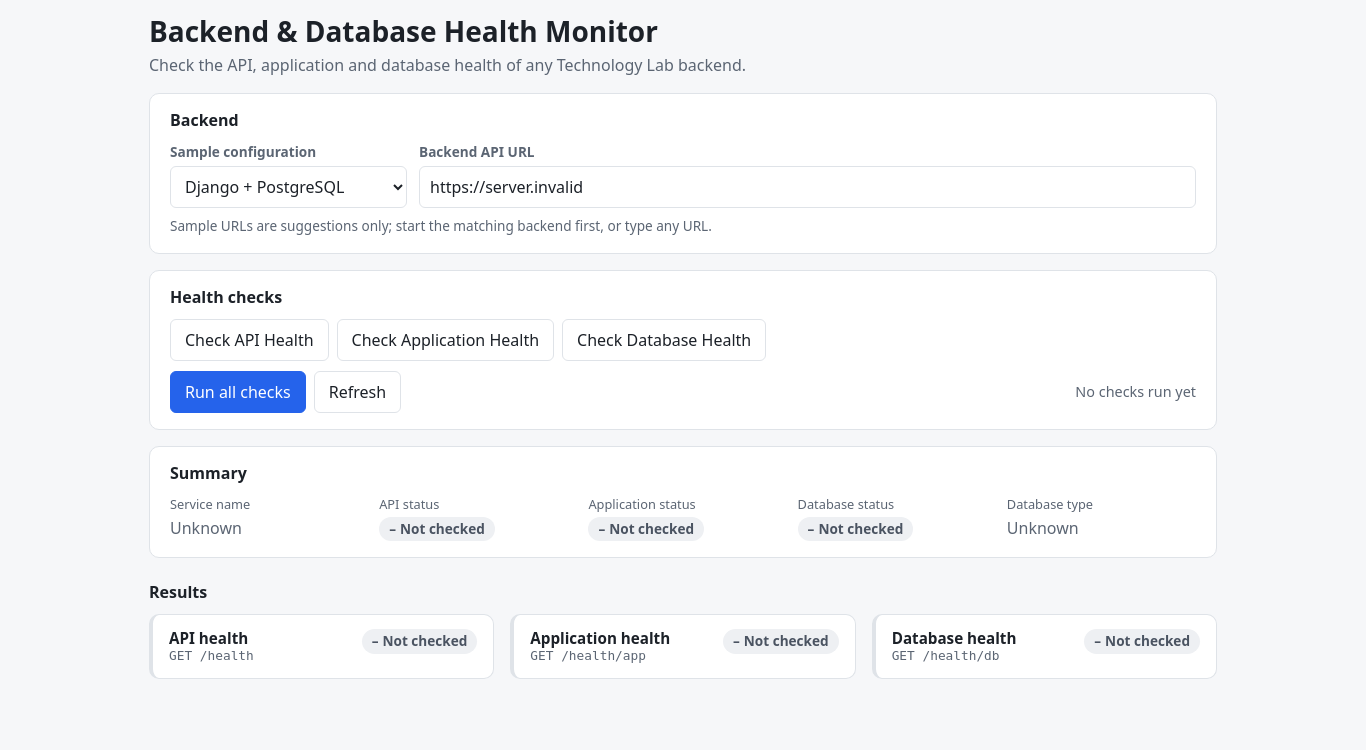
App › runs all checks and shows a healthy summary
Click the button "Run all checks" at {"x": 238, "y": 392}, box [170,371,306,413]
(page scrolled)
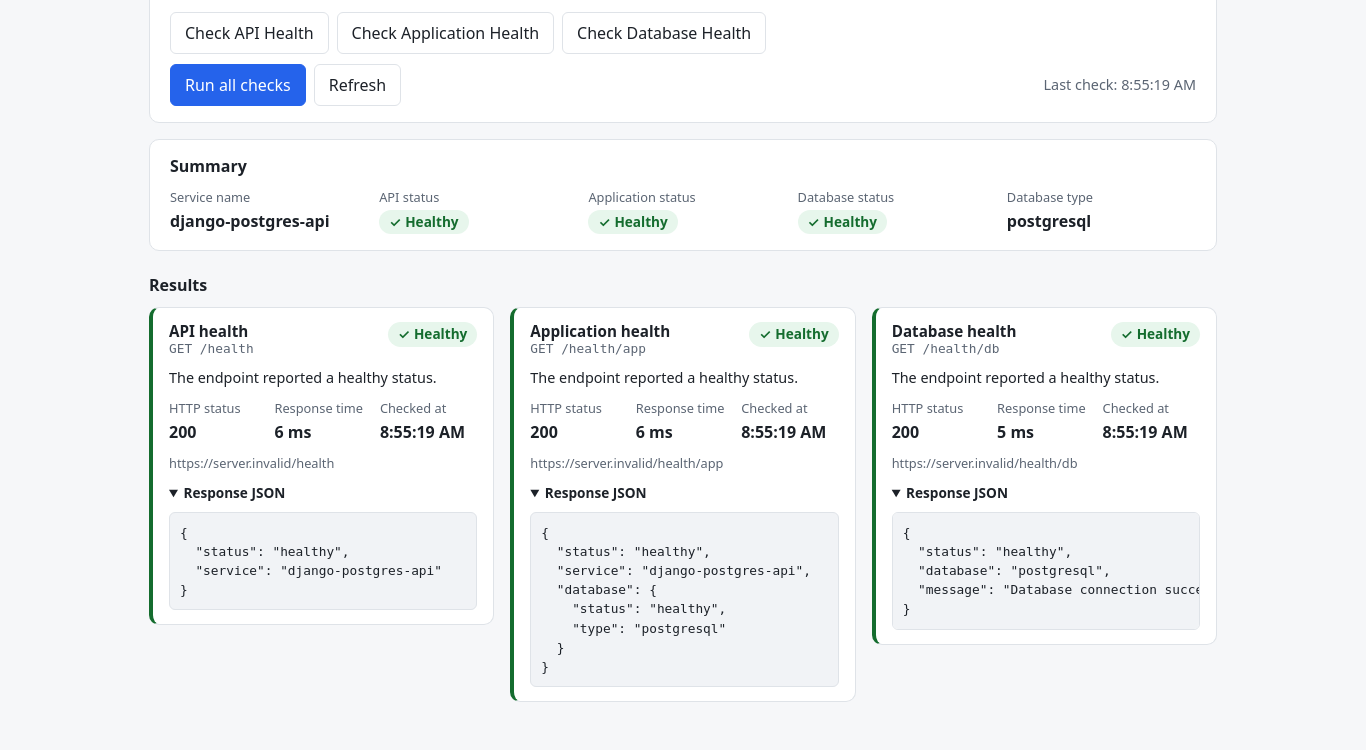
Now the text "Last check: 8:55:19 AM" is shown, box [1044,74,1196,96]
Now the text "django-postgres-api" is shown, box [170,210,330,232]
Now the text "postgresql" is shown, box [1007,210,1091,232]
